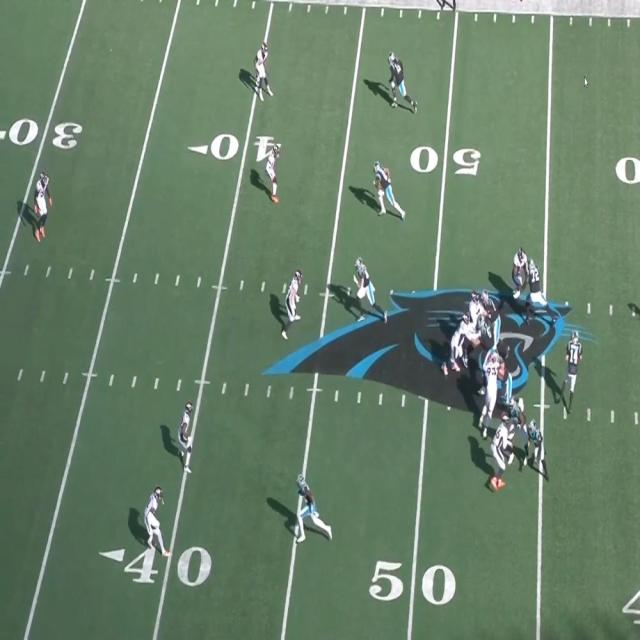db: (145, 485, 165, 562), (34, 173, 49, 237), (180, 399, 192, 471), (269, 142, 283, 200), (254, 42, 268, 97)
lb: (285, 268, 301, 336)
qb: (567, 332, 581, 410)
skill: (295, 474, 317, 537), (354, 255, 375, 314), (392, 55, 412, 112), (374, 160, 394, 216), (530, 419, 546, 474)
